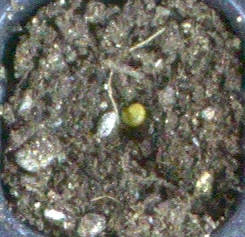chilli seed: (120, 103, 145, 126)
